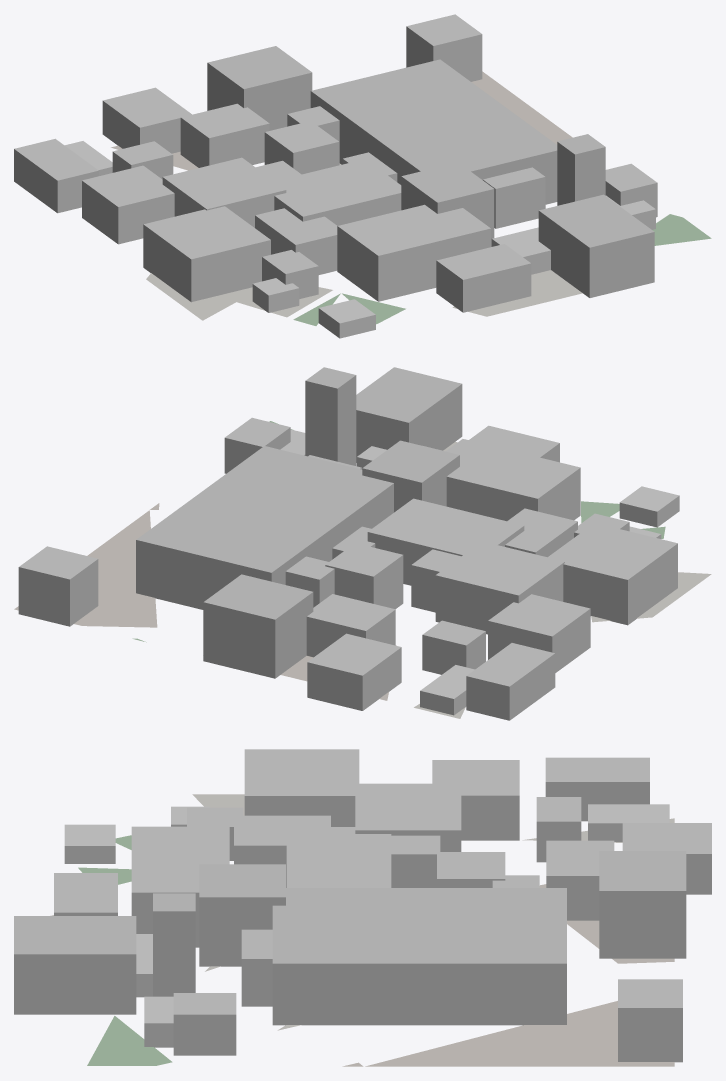
The model's file is 125_111_mid.glb.
The picture shows the model from 3 angles, top to bottom: view 1: azimuth 30°, elevation 25°; view 2: azimuth 150°, elevation 25°; view 3: azimuth 270°, elevation 25°; orthographic projection. The views are drawn at different scales.
Bounding box in the file's own units: 500 × 94.77 × 542.
